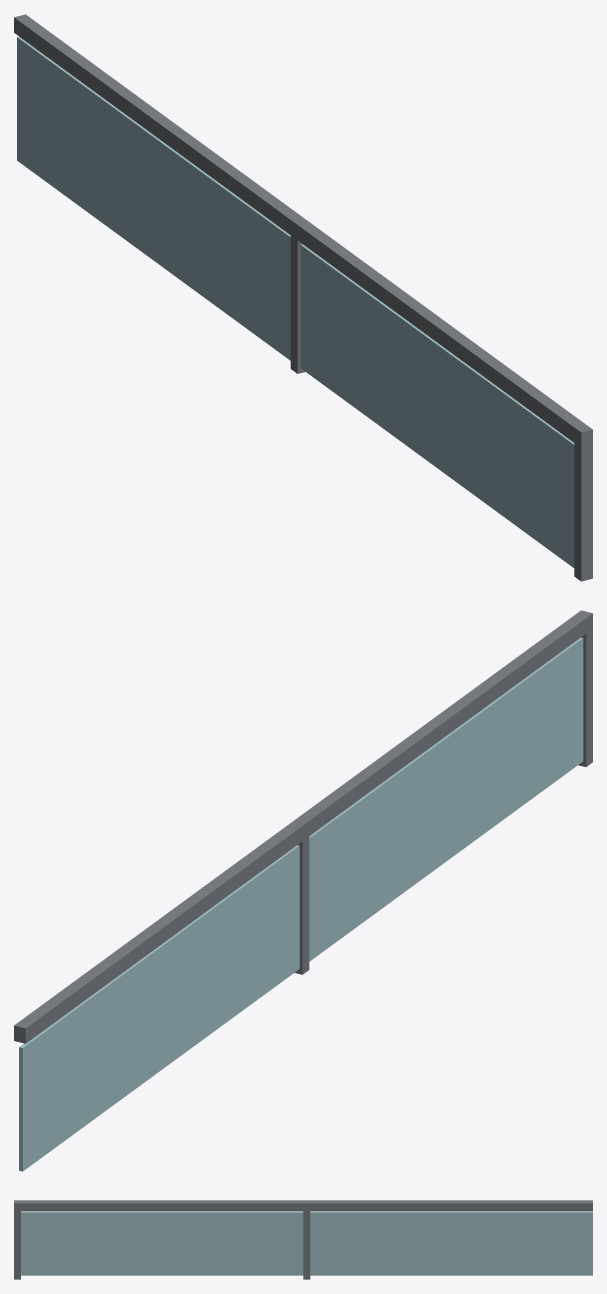
Rendered from PSDHalf.glb.
3 renders of one model, top to bottom at view 1: azimuth 30°, elevation 25°; view 2: azimuth 150°, elevation 25°; view 3: azimuth 270°, elevation 25°, orthographic. The views are drawn at different scales.
Parts seen in each view (by area): view 1: PSDHalf; view 2: PSDHalf; view 3: PSDHalf.
Boxes of the visible parts, box(x1,y1,x2,y2) form: PSDHalf: box(14, 14, 592, 581); PSDHalf: box(14, 610, 592, 1171); PSDHalf: box(14, 1200, 592, 1279).
Bounding box in the file's own units: 0.12 × 1.45 × 10.
